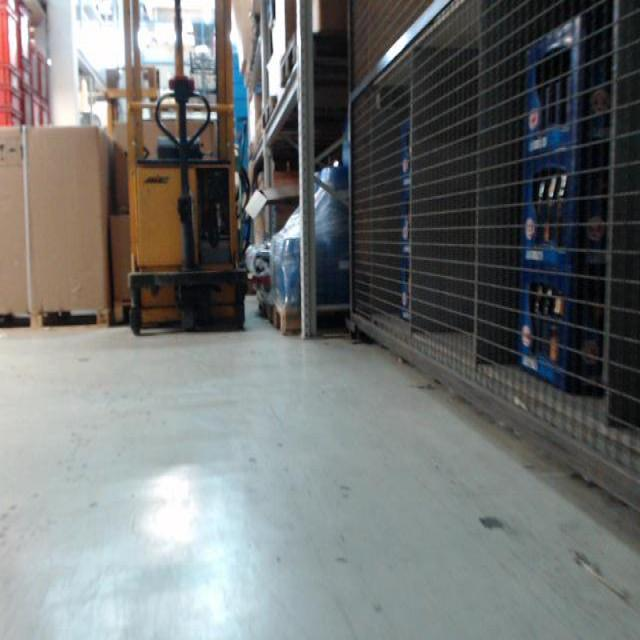pallet: (277, 33, 351, 86), (0, 303, 110, 337), (270, 301, 350, 335), (260, 93, 276, 132)
pallet_truck: (121, 0, 247, 331)
